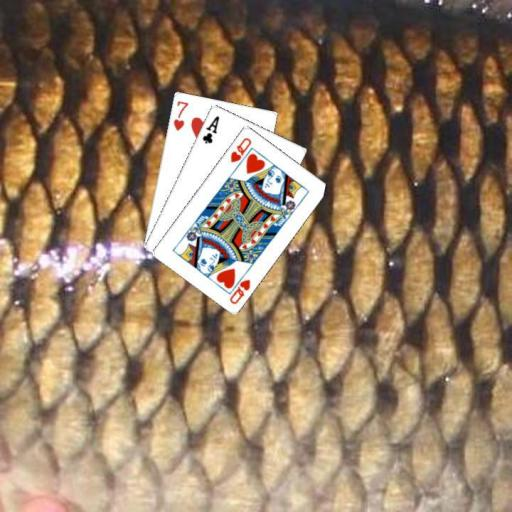7H: (170, 98, 190, 133)
AC: (199, 112, 221, 145)
QH: (225, 268, 252, 305), (227, 134, 252, 164)
